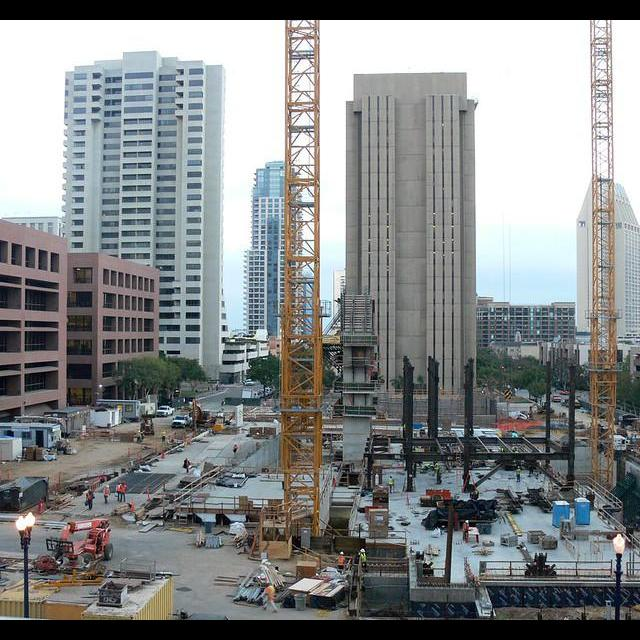Excavator: (46, 519, 114, 561), (188, 396, 214, 432)
Hardhat: (360, 548, 365, 552), (465, 520, 469, 523), (340, 551, 344, 554), (88, 489, 92, 491), (517, 466, 520, 468), (106, 485, 109, 487), (234, 443, 237, 444)
Ladder: (506, 513, 522, 536)
Person: (263, 584, 278, 613), (85, 489, 95, 510), (434, 464, 443, 485), (115, 482, 122, 501), (463, 520, 469, 541), (104, 485, 110, 504), (121, 483, 127, 502), (387, 476, 394, 492), (183, 458, 190, 473), (359, 548, 366, 561), (338, 552, 345, 564), (232, 443, 239, 453), (516, 466, 520, 482), (161, 430, 166, 442), (332, 477, 336, 488)
Safety Cone: (130, 498, 135, 514), (146, 488, 150, 500), (154, 444, 159, 453), (7, 469, 11, 480), (53, 478, 57, 488), (136, 456, 140, 465), (161, 451, 165, 459), (128, 448, 130, 457), (0, 469, 1, 480)
Safety Vest: (267, 586, 276, 601), (360, 554, 366, 561), (436, 467, 442, 473), (104, 489, 109, 496), (339, 556, 344, 563), (122, 485, 126, 493), (388, 478, 393, 484), (88, 494, 92, 500), (117, 486, 121, 492), (517, 469, 520, 475), (162, 432, 166, 436), (333, 479, 336, 484)
dump truck: (551, 395, 561, 402)
truck: (171, 415, 192, 428), (156, 405, 174, 417)
wheel loader: (140, 415, 155, 436)
